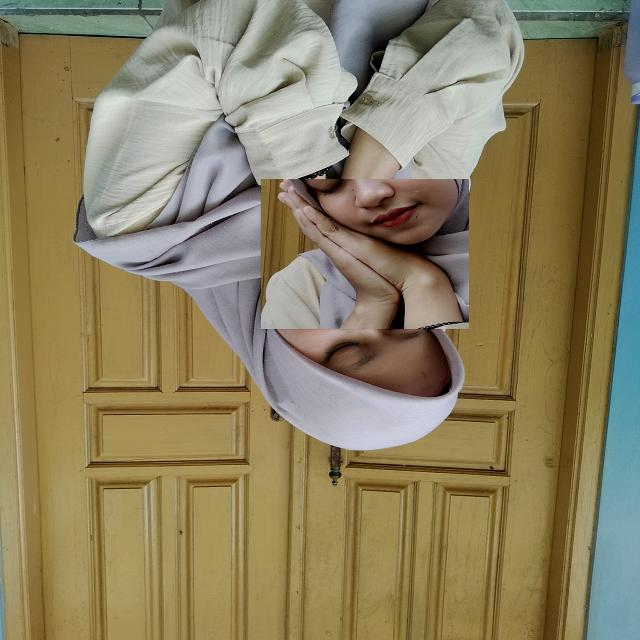tidur: (260, 179, 469, 330)
